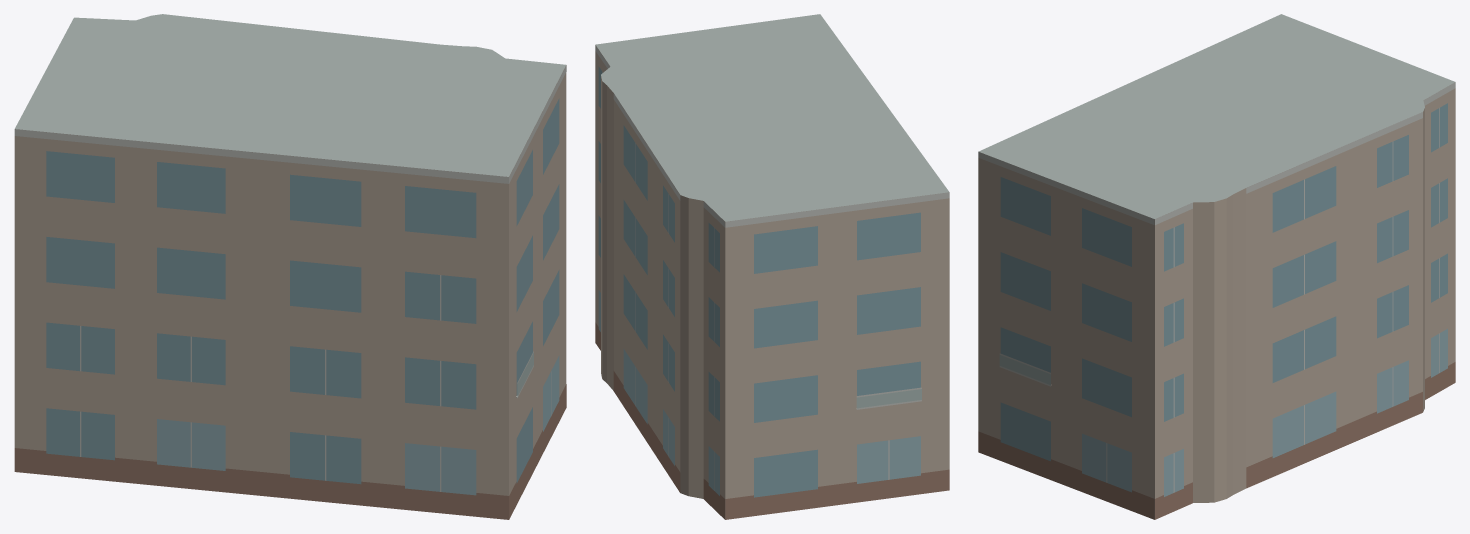
The model's file is survey-upis-32743824.glb.
The picture shows the model from 3 angles, left to right: view 1: azimuth 30°, elevation 25°; view 2: azimuth 150°, elevation 25°; view 3: azimuth 270°, elevation 25°; orthographic projection. The views are drawn at different scales.
Parts seen in each view (by area): view 1: survey-upis-32743824.tmp; view 2: survey-upis-32743824.tmp; view 3: survey-upis-32743824.tmp.
Boxes of the visible parts, x1,y1,x2,y2 form: survey-upis-32743824.tmp: (14,14,566,519); survey-upis-32743824.tmp: (595,14,949,519); survey-upis-32743824.tmp: (978,14,1455,519).
Size of the model in its own units: 17.58 by 12 by 17.27.
